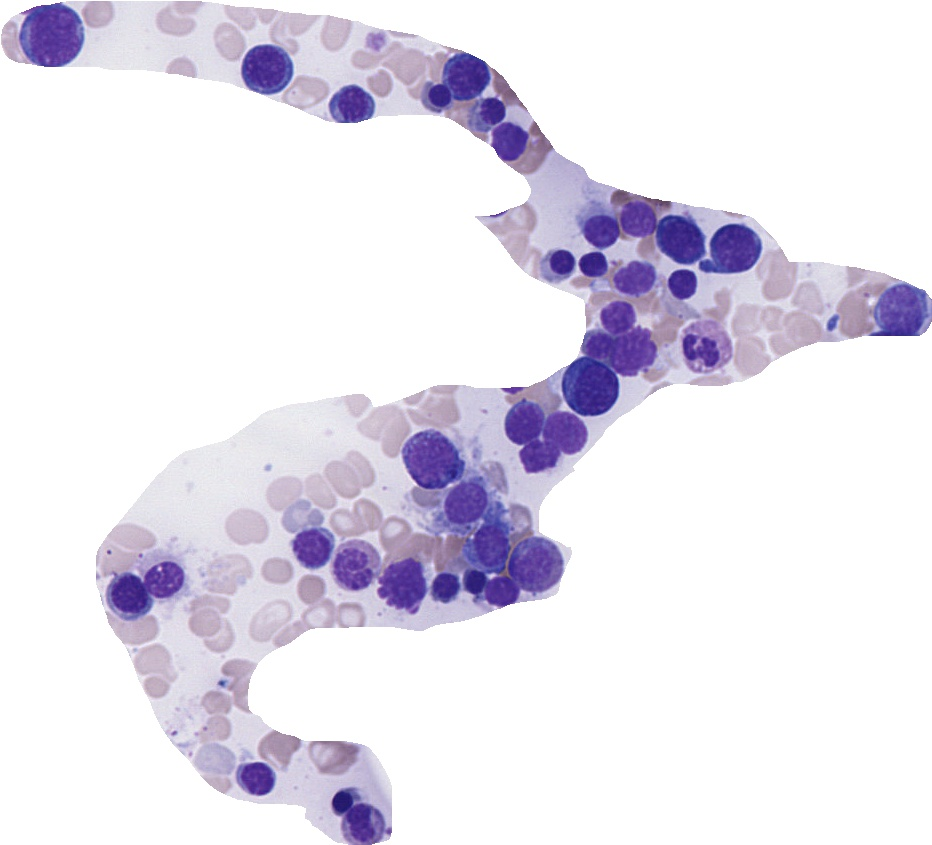objectness: (680, 324, 730, 374), (510, 540, 560, 590), (324, 541, 374, 591), (874, 284, 924, 334), (29, 11, 79, 61), (709, 223, 759, 273), (404, 434, 454, 484), (577, 204, 627, 254), (475, 568, 525, 618), (589, 295, 639, 345), (658, 261, 708, 311), (379, 559, 429, 609), (515, 433, 565, 483), (465, 519, 515, 569), (137, 554, 187, 604), (440, 478, 490, 528), (230, 754, 280, 804), (540, 409, 590, 459), (608, 325, 658, 375), (484, 116, 534, 166), (612, 193, 662, 243), (570, 239, 620, 289), (572, 322, 622, 372), (613, 253, 663, 303), (450, 557, 500, 607), (499, 396, 549, 446), (419, 563, 469, 613), (537, 238, 587, 288), (325, 80, 375, 130), (287, 522, 337, 572), (654, 213, 704, 263), (412, 71, 462, 121), (241, 42, 291, 92), (316, 778, 366, 828), (465, 87, 515, 137), (438, 51, 488, 101), (101, 569, 151, 619), (565, 361, 615, 411), (337, 800, 387, 845)
